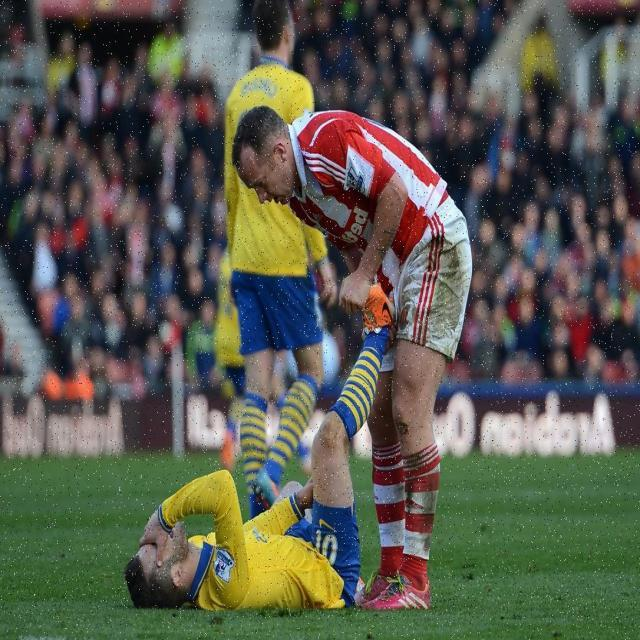fall: (121, 303, 388, 603)
